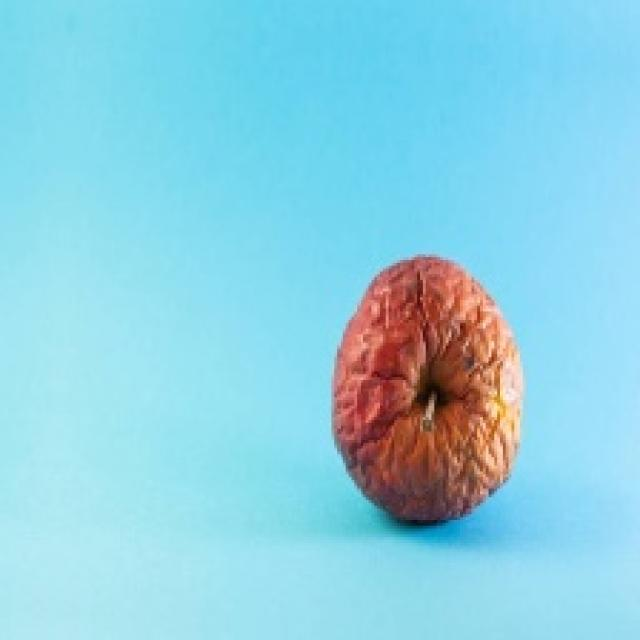rotten_apple: (334, 255, 520, 520)
